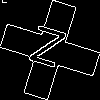Z: (25, 25, 67, 78)
